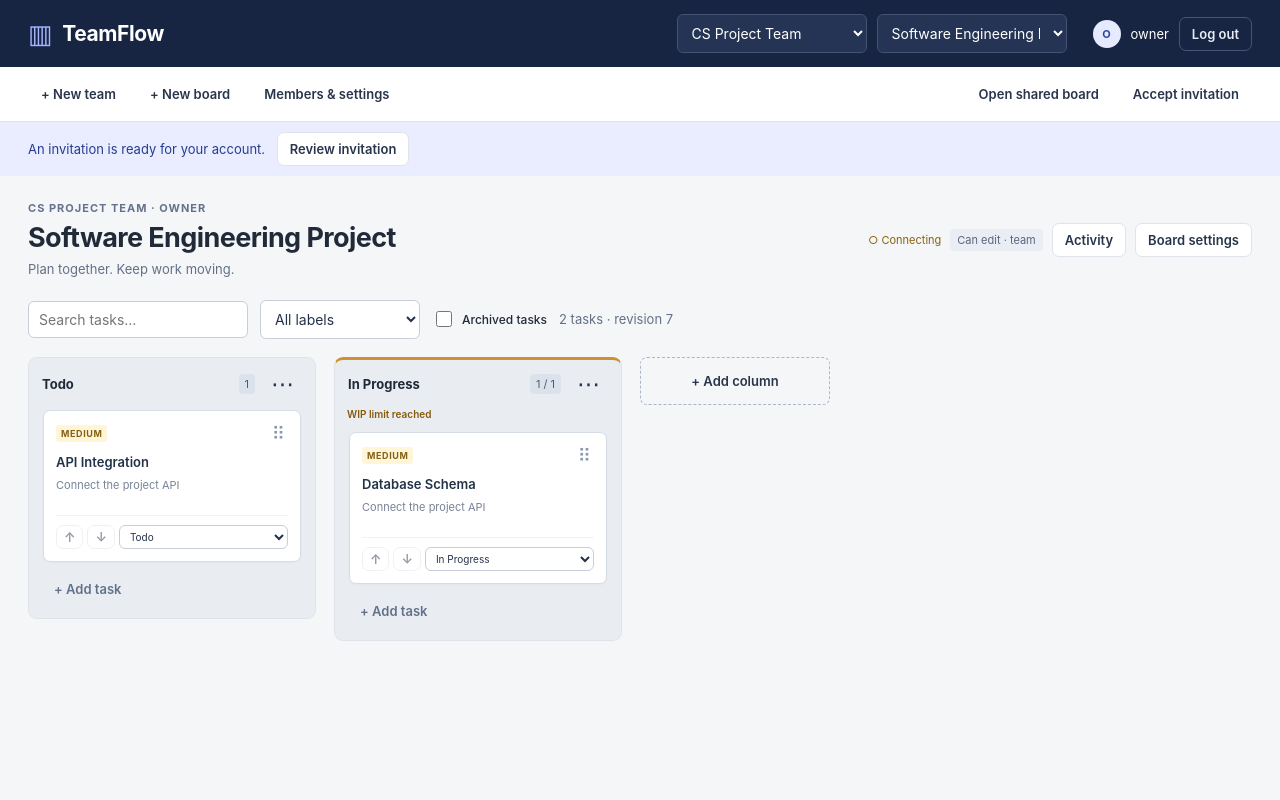
Test: accepts the real invitation response team_id and clears the temporary token
The width and height of the screenshot is (1280, 800).
Click the button "Review invitation" at (343, 149), box [277,132,409,166]
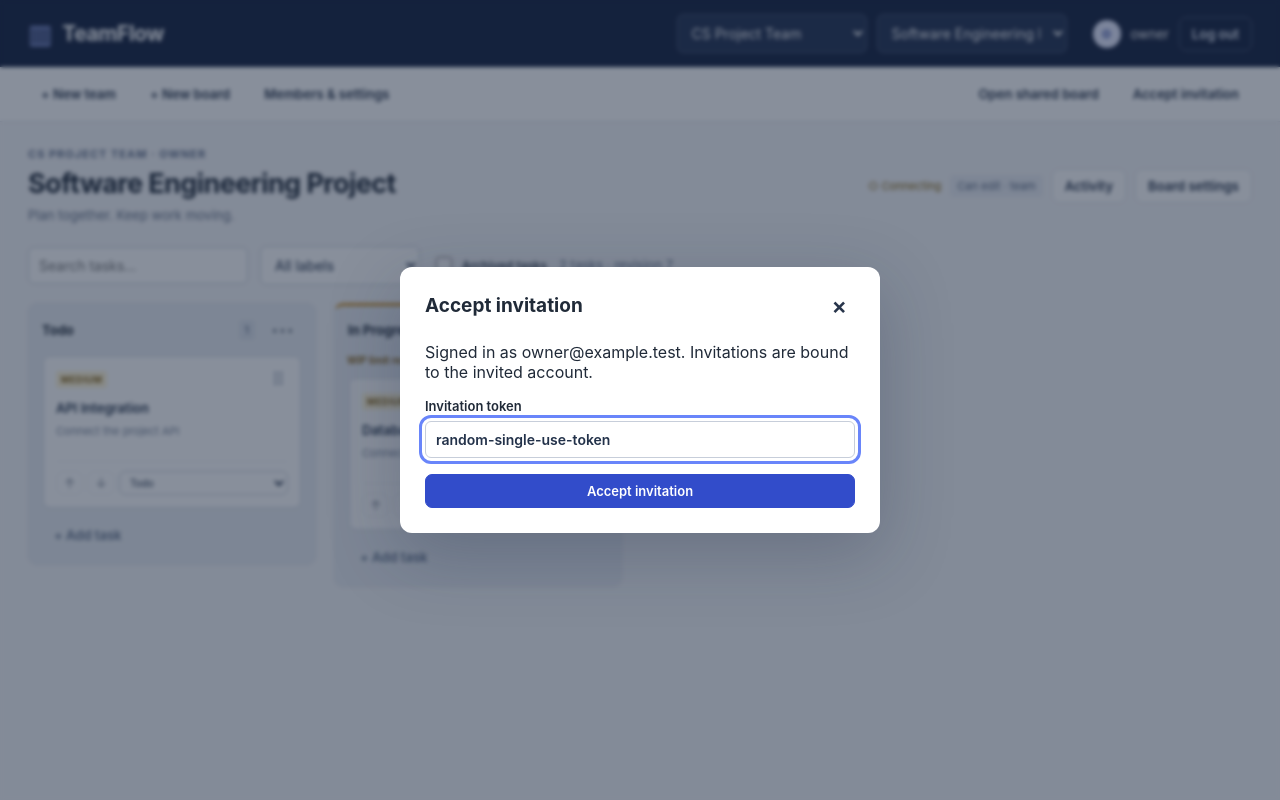
Expected: the field labelled "Invitation token" holds "random-single-use-token", [425,421,855,458]
Click the button "Accept invitation" at (640, 491), box [425,474,855,508]
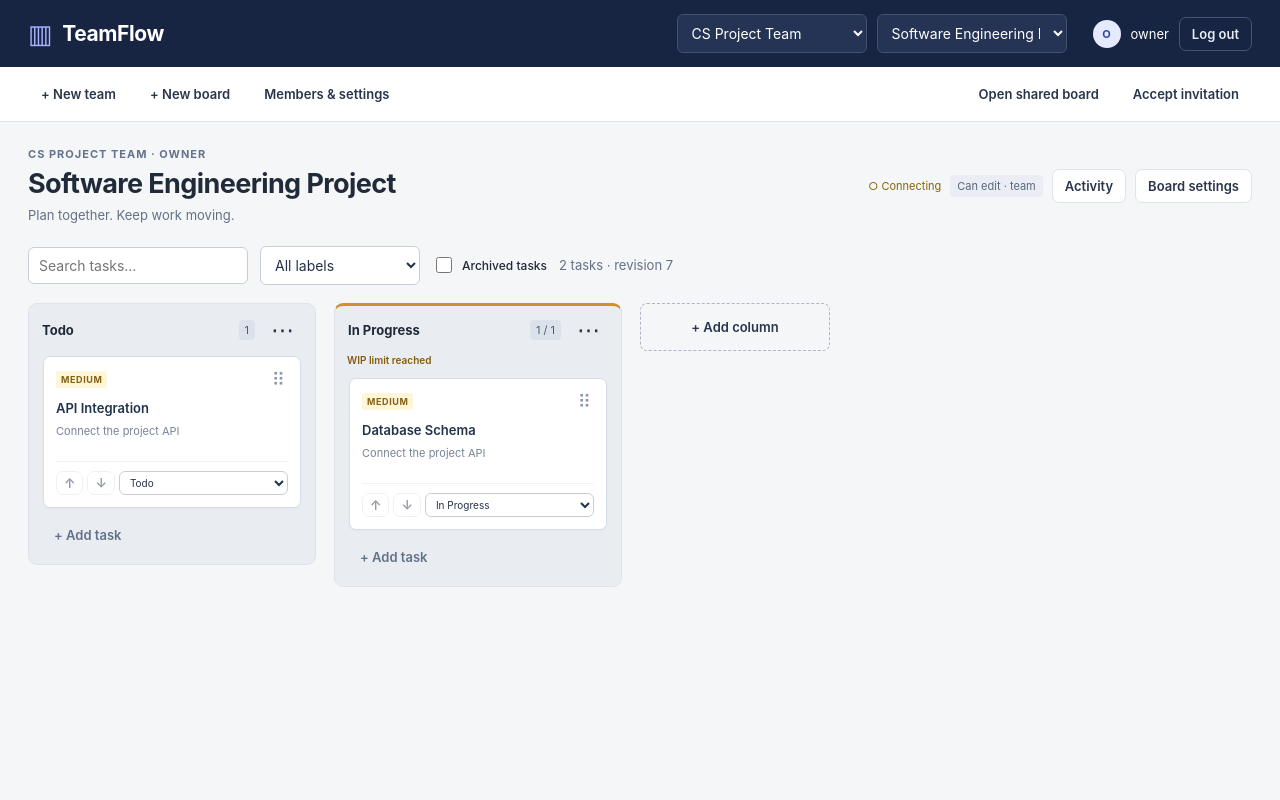
Expected: the label labelled "Invitation token" is gone
